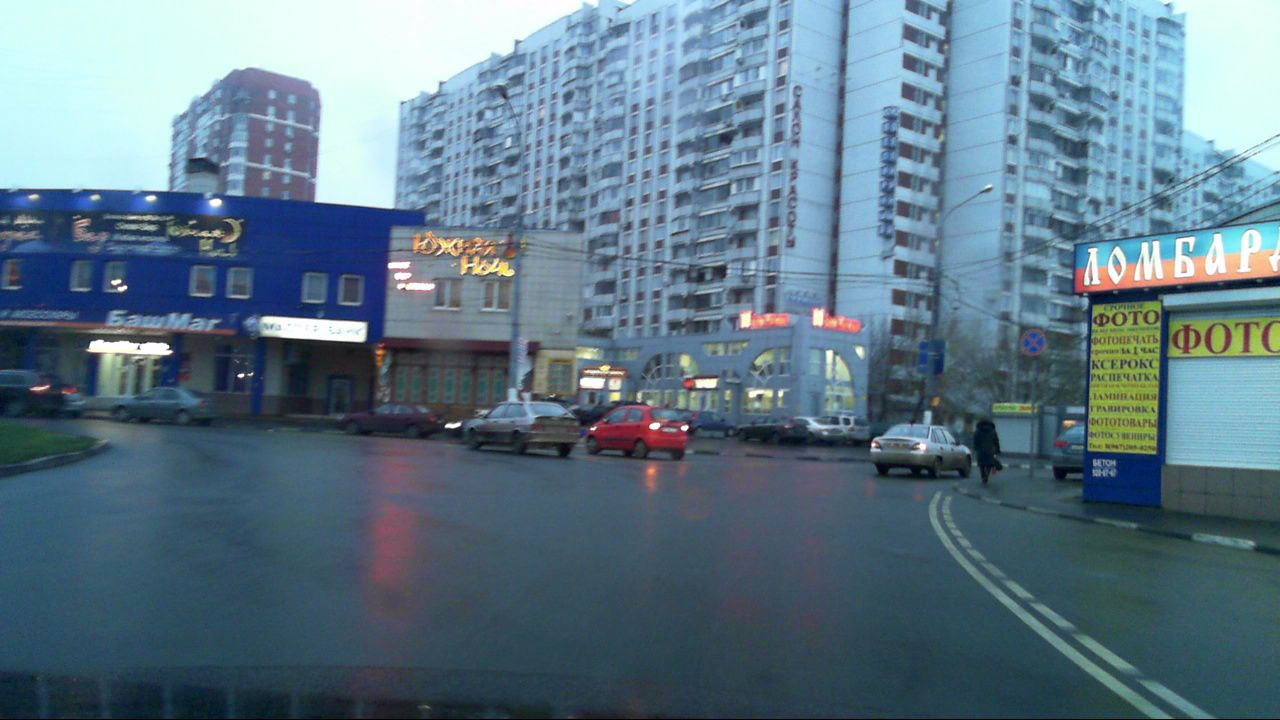No Parking: (1018, 327, 1047, 356)
